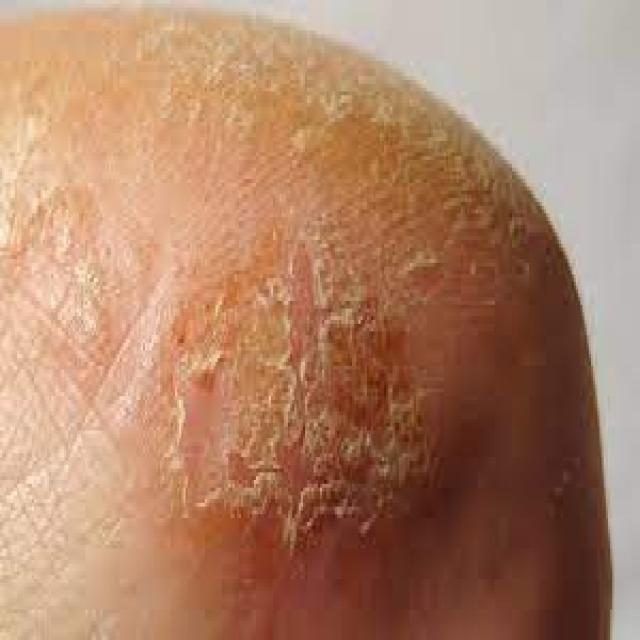Acanthosis Nigricans: (178, 89, 418, 586)
